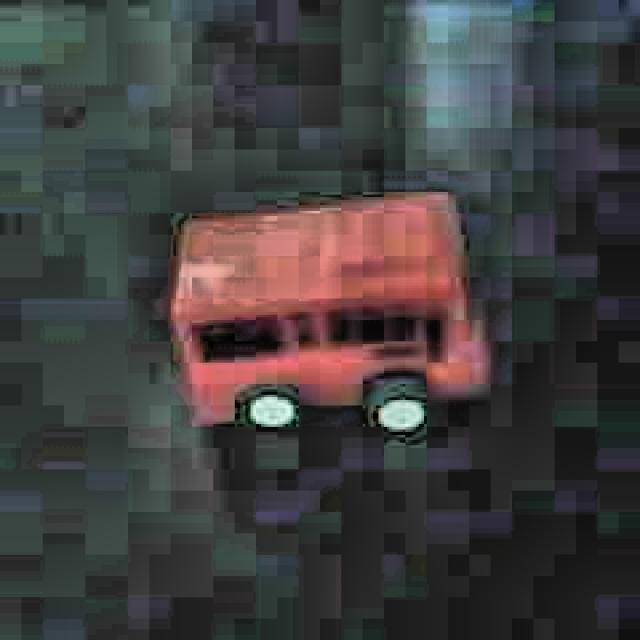bus: (169, 184, 499, 445)
